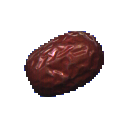gd: (11, 15, 128, 112)
